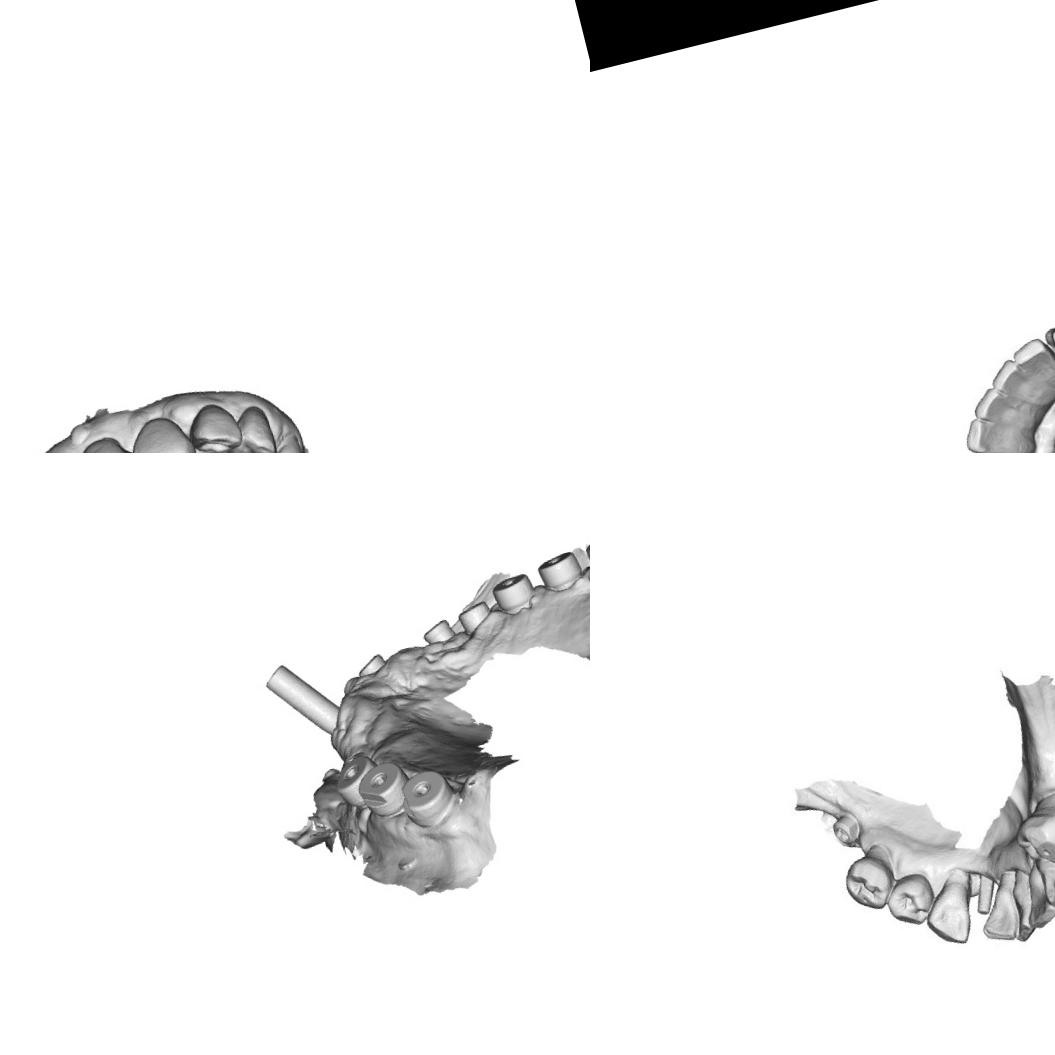canine: (919, 872, 983, 952), (217, 399, 283, 453), (1039, 312, 1055, 387)
implant: (257, 646, 349, 747), (393, 762, 462, 834), (349, 754, 415, 822), (328, 752, 384, 810), (530, 546, 586, 596), (485, 568, 537, 616), (415, 614, 460, 657), (452, 594, 497, 636), (348, 645, 390, 684), (578, 525, 590, 573)
incisor: (181, 395, 246, 453), (120, 407, 198, 453), (966, 378, 1024, 434), (979, 878, 1026, 940), (1003, 331, 1055, 387), (984, 352, 1036, 407), (960, 408, 1018, 453), (1014, 867, 1055, 928), (65, 429, 141, 453), (1004, 889, 1036, 946), (1034, 851, 1055, 905)
premolar: (842, 854, 894, 912), (884, 871, 934, 924), (1017, 798, 1055, 865)
